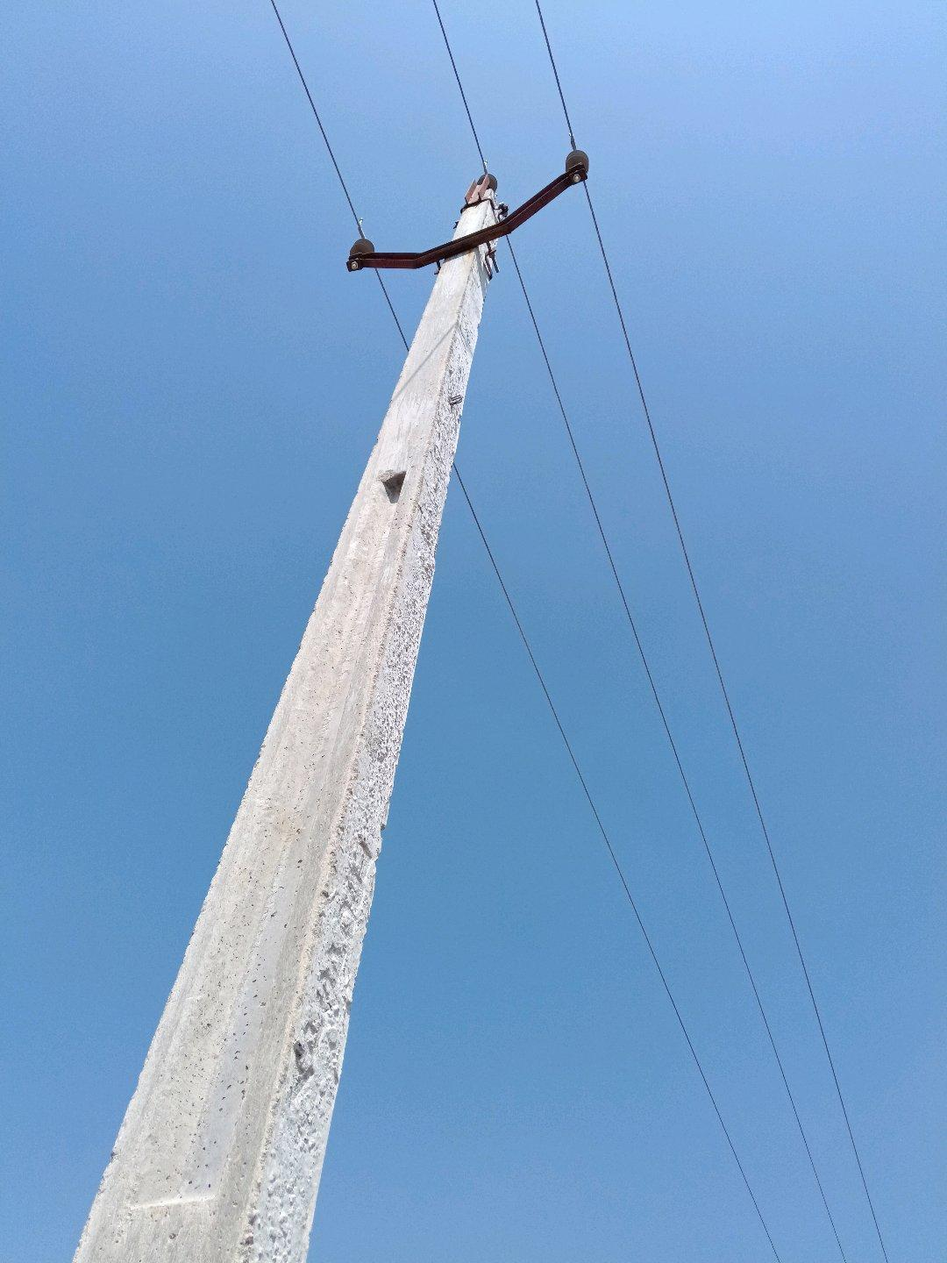{"0" "insulator", "1" "pole", "2" "crossarm", "3" "conductor", "4" "street_: (75, 148, 589, 1262), (652, 949, 658, 957), (455, 469, 459, 481), (637, 927, 641, 937), (655, 960, 659, 966), (651, 957, 653, 963), (338, 178, 339, 181), (652, 965, 653, 967)
